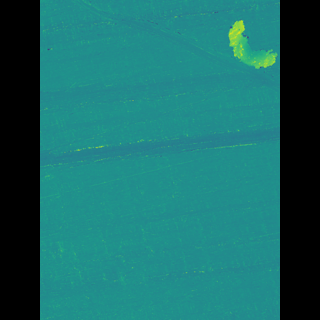Loch: (94, 0, 250, 95), (211, 17, 249, 78)
